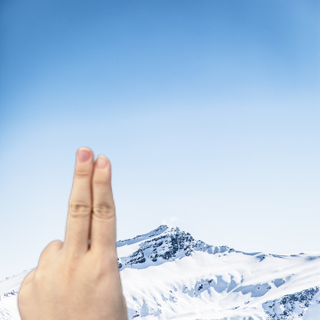DHAVE: (12, 141, 136, 320)
